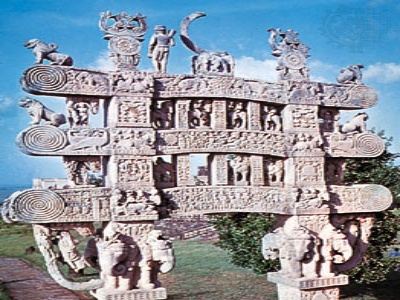torana: (28, 20, 372, 292)
